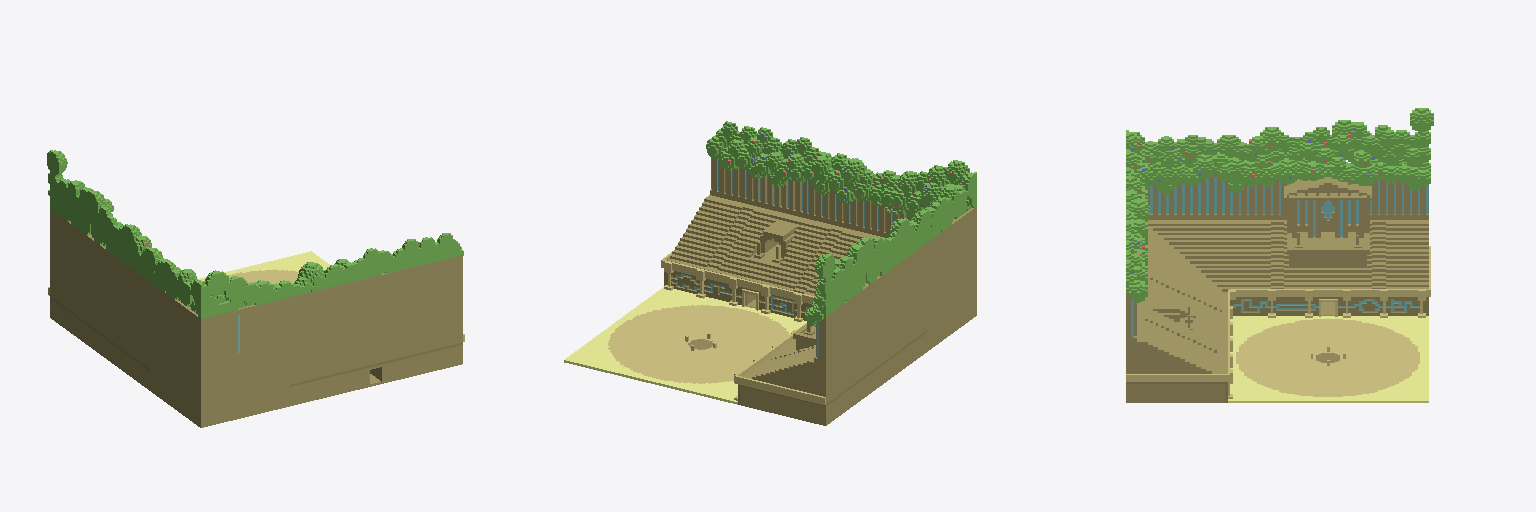
3 renders of one model, left to right at view 1: azimuth 30°, elevation 25°; view 2: azimuth 150°, elevation 25°; view 3: azimuth 270°, elevation 25°, orthographic.
Size of the model in its own units: 114 by 69 by 115.
Materials: 1 (1 with a texture image).